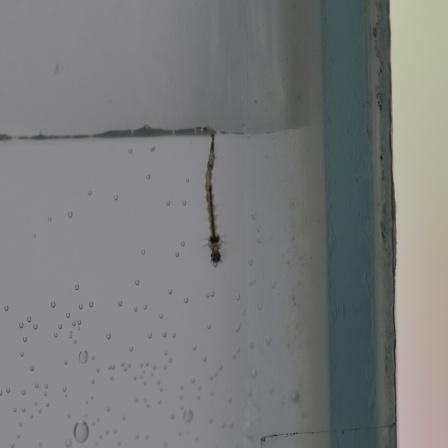Jentik-Nyamuk: (198, 130, 233, 272)
